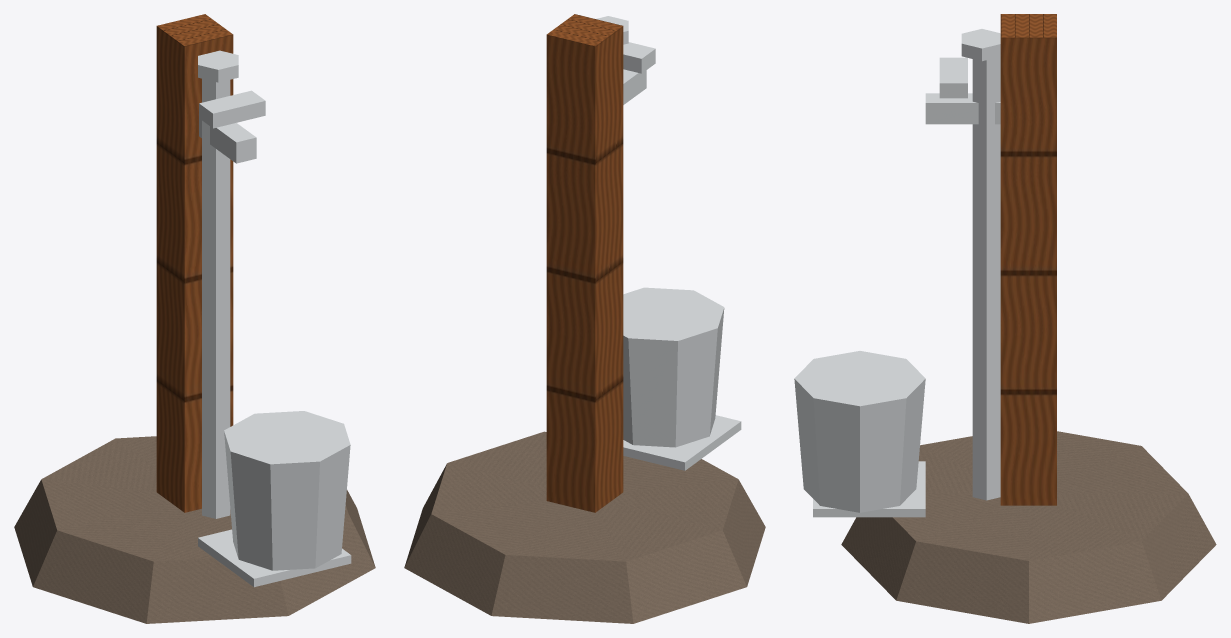
Rendered from allotments-and-community-garden-standpipe-and-tap-41356c7e.glb.
The picture shows the model from 3 angles, left to right: view 1: azimuth 30°, elevation 25°; view 2: azimuth 150°, elevation 25°; view 3: azimuth 270°, elevation 25°; orthographic projection.
Parts seen in each view (by area): view 1: standpipe-and-tap-galv, standpipe-and-tap-soil, standpipe-and-tap-timber; view 2: standpipe-and-tap-soil, standpipe-and-tap-timber, standpipe-and-tap-galv; view 3: standpipe-and-tap-soil, standpipe-and-tap-galv, standpipe-and-tap-timber.
Part boxes in pixels (box(x1,y1,x2,y2)): standpipe-and-tap-galv: box(198, 50, 351, 587); standpipe-and-tap-soil: box(14, 436, 375, 623); standpipe-and-tap-timber: box(156, 14, 233, 512); standpipe-and-tap-soil: box(404, 431, 765, 623); standpipe-and-tap-timber: box(546, 14, 623, 512); standpipe-and-tap-galv: box(596, 16, 741, 470); standpipe-and-tap-soil: box(841, 431, 1216, 623); standpipe-and-tap-galv: box(794, 29, 1000, 517); standpipe-and-tap-timber: box(1000, 14, 1056, 505).
Bounding box in the file's own units: 0.8 × 1.22 × 0.9.
Materials: 3 (2 with a texture image).
